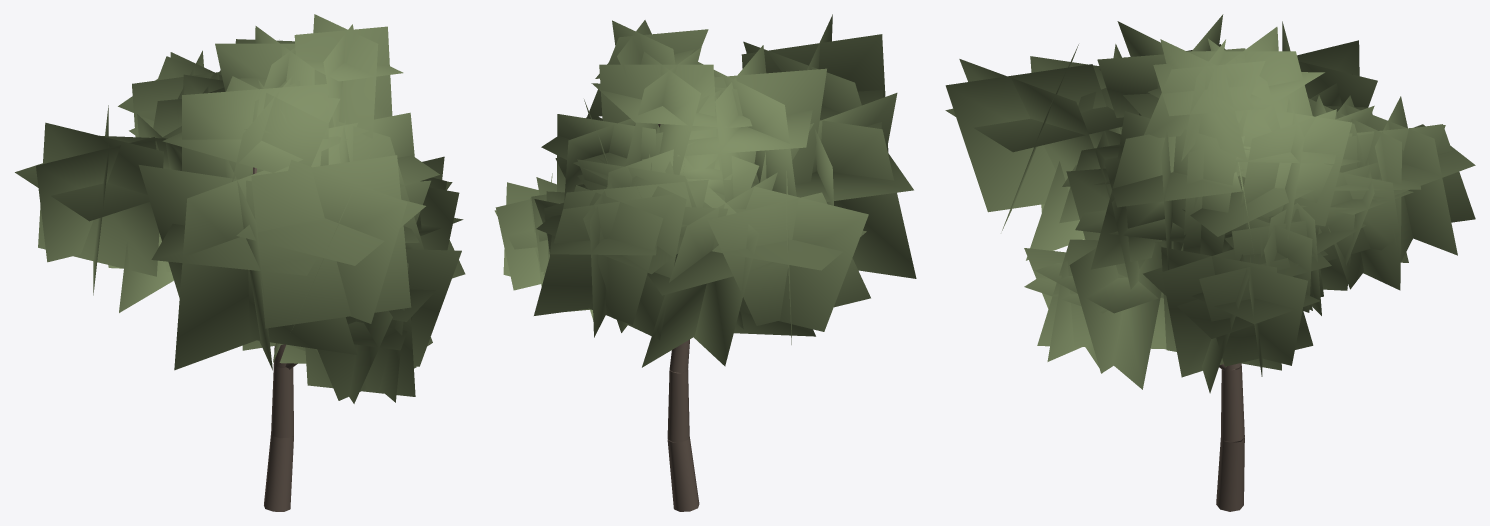
Rendered from ZR_TreeOak.fbx.
3 views of the same model, side by side, from view 1: azimuth 30°, elevation 25°; view 2: azimuth 150°, elevation 25°; view 3: azimuth 270°, elevation 25° (orthographic). The views are drawn at different scales.
Parts seen in each view (by area): view 1: ZR_TreeOak; view 2: ZR_TreeOak; view 3: ZR_TreeOak.
Part boxes in pixels (<box>): ZR_TreeOak: <box>15,14,465,511</box>; ZR_TreeOak: <box>494,14,916,511</box>; ZR_TreeOak: <box>945,14,1475,511</box>.
Bounding box in the file's own units: 7.4 × 8.28 × 8.38.
